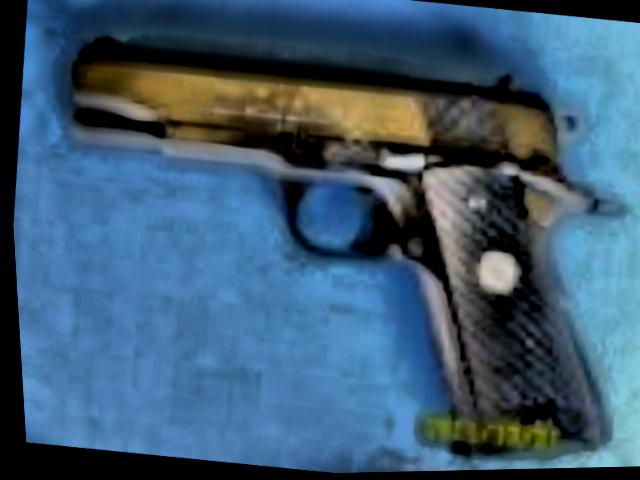pistol: (10, 3, 640, 478)
